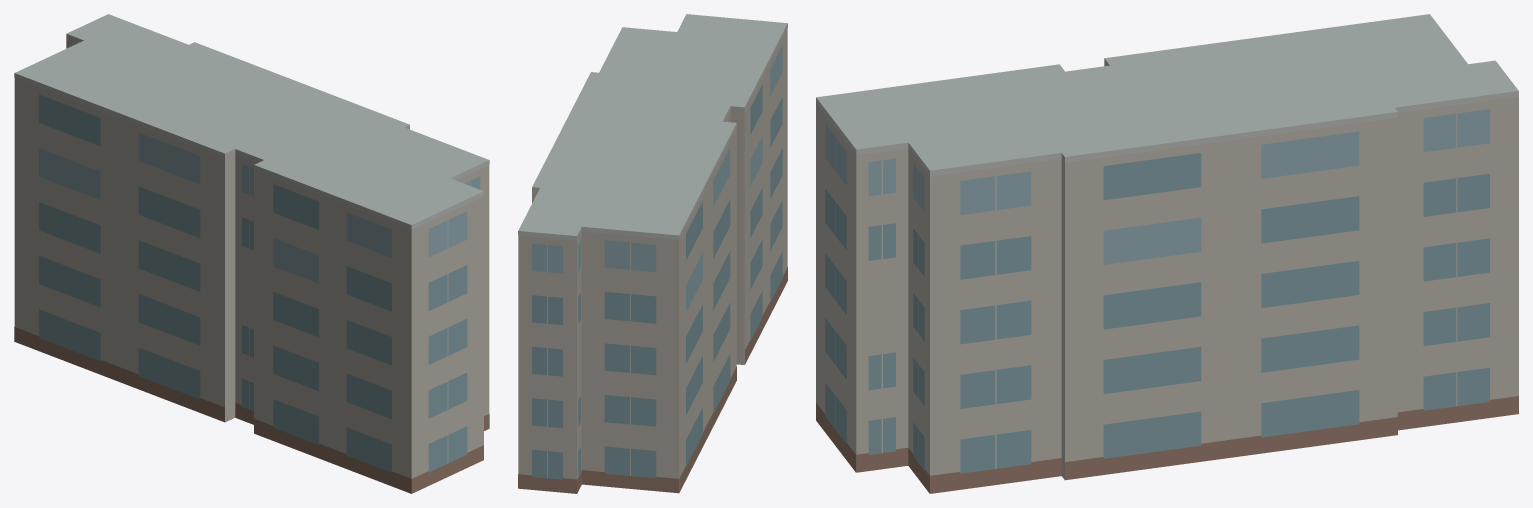
Rendered from survey-upis-32956183.glb.
The picture shows the model from 3 angles, left to right: view 1: azimuth 30°, elevation 25°; view 2: azimuth 150°, elevation 25°; view 3: azimuth 270°, elevation 25°; orthographic projection. The views are drawn at different scales.
Parts seen in each view (by area): view 1: survey-upis-32956183.tmp; view 2: survey-upis-32956183.tmp; view 3: survey-upis-32956183.tmp.
Part boxes in pixels (<box>): survey-upis-32956183.tmp: <box>14,14,489,493</box>; survey-upis-32956183.tmp: <box>518,14,787,493</box>; survey-upis-32956183.tmp: <box>816,14,1518,493</box>.
Size of the model in its own units: 14.26 by 13.7 by 27.01.
